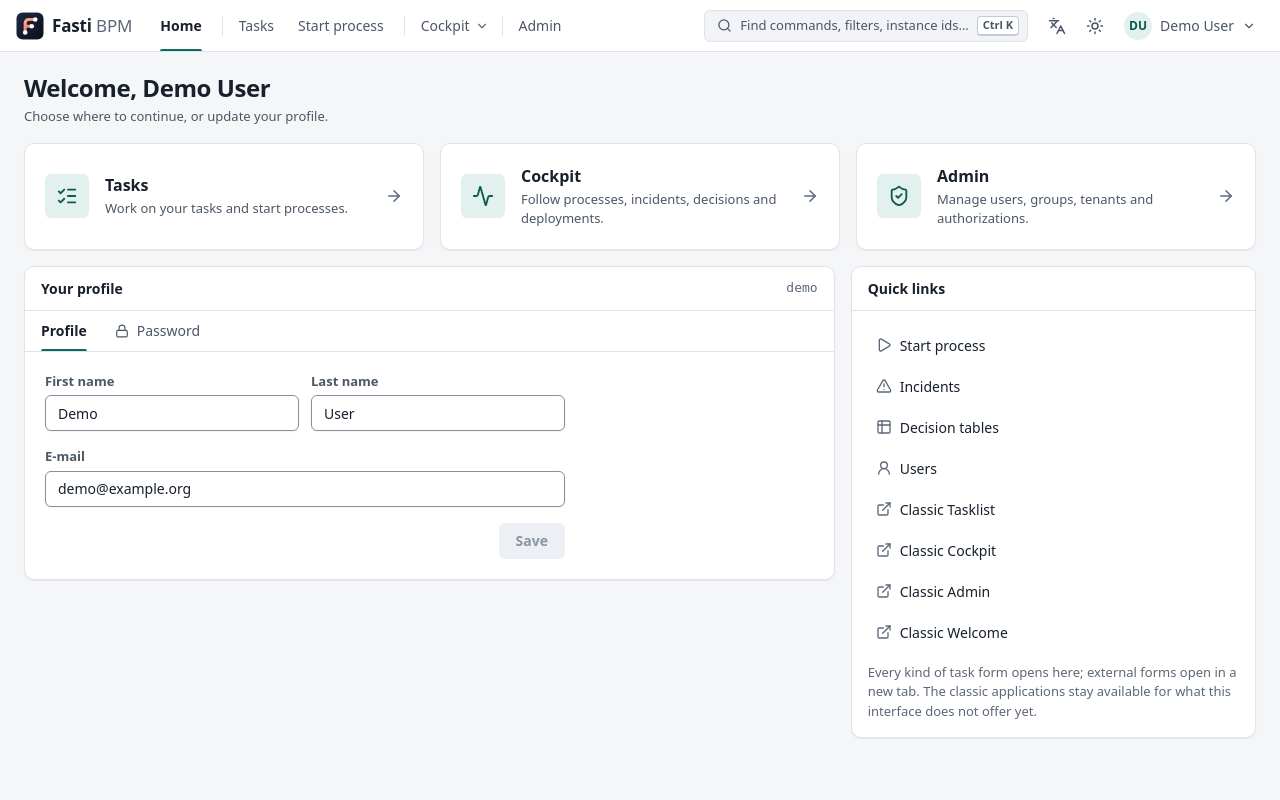
welcome page › changes the own password with the current one
This screenshot has width=1280, height=800.
Click the tab "Password" at (157, 331), box [103, 311, 212, 351]
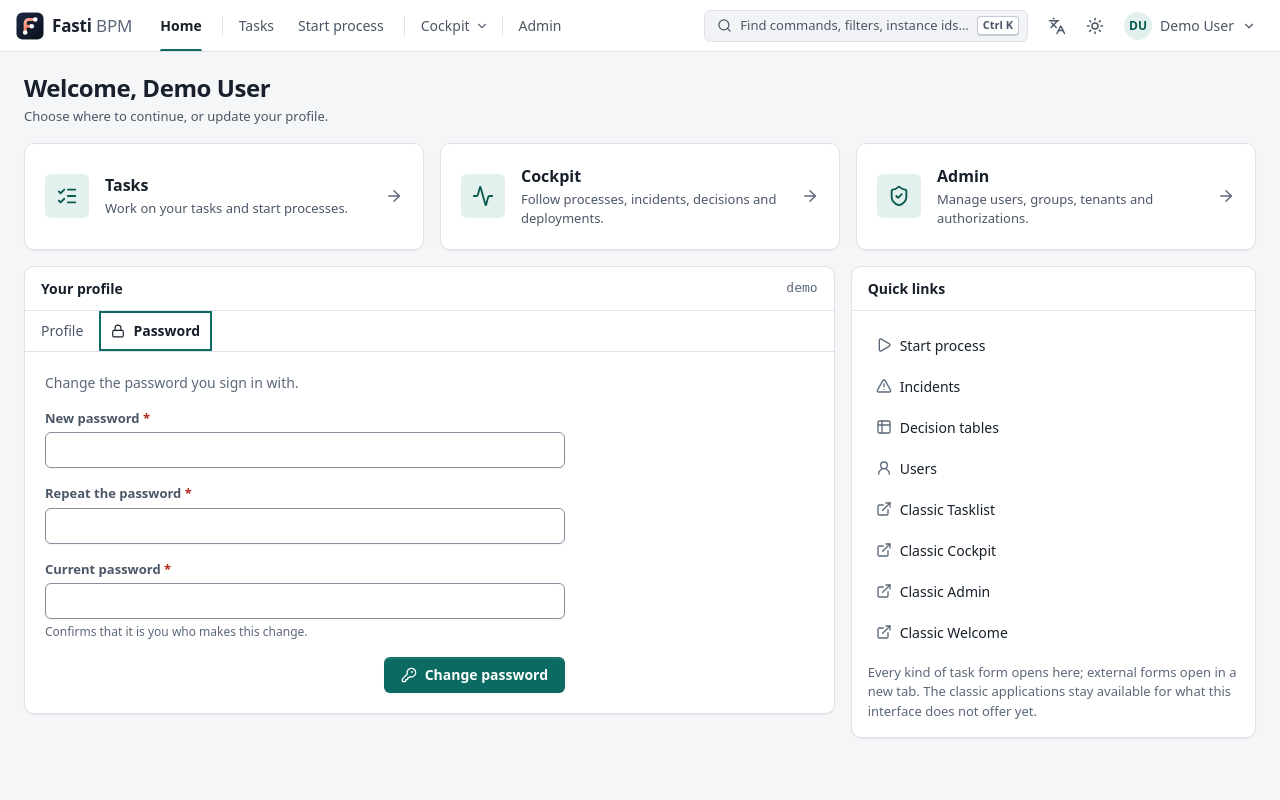
Type "n3w-Secret!" into the password field labelled "New password *" at (305, 450), box [45, 432, 565, 468]
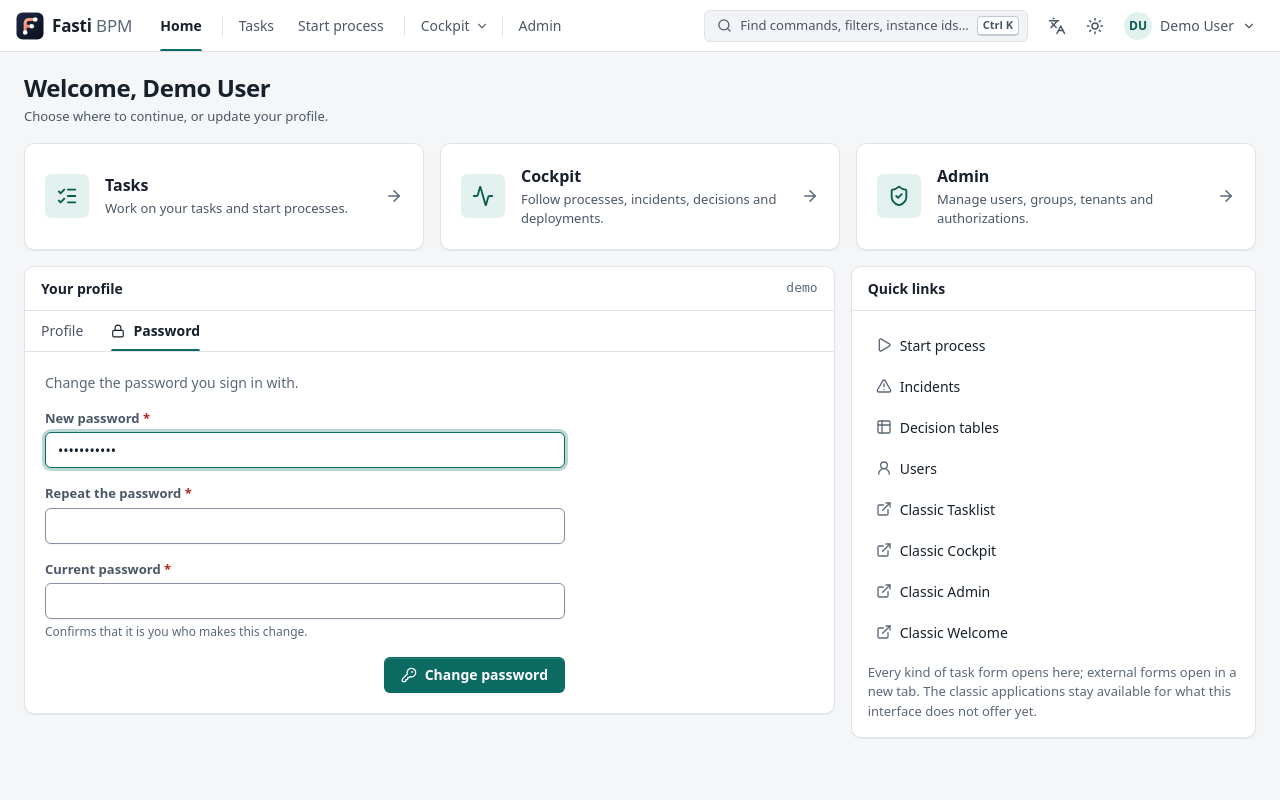
Type "n3w-Secret!" into the password field labelled "Repeat the password *" at (305, 526), box [45, 508, 565, 544]
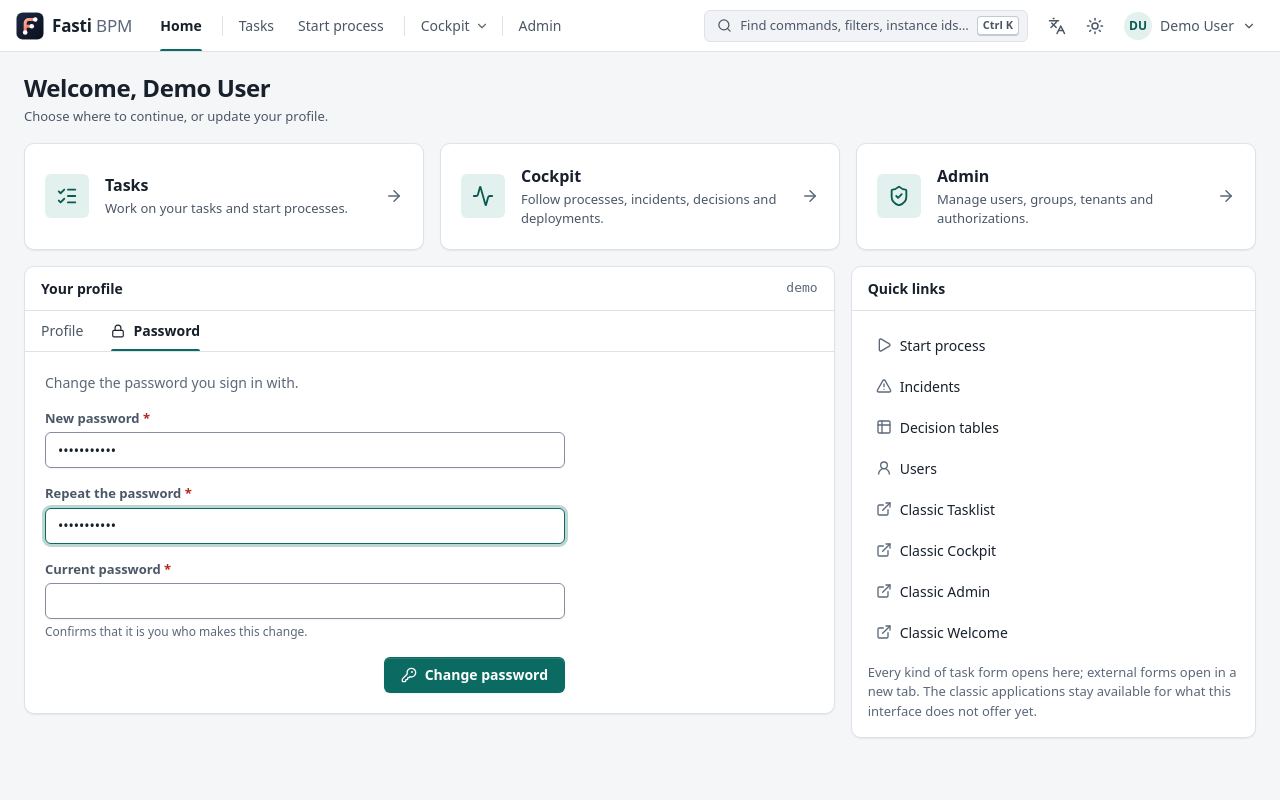
Type "old-secret" into the password field labelled "Current password *" at (305, 601), box [45, 583, 565, 619]
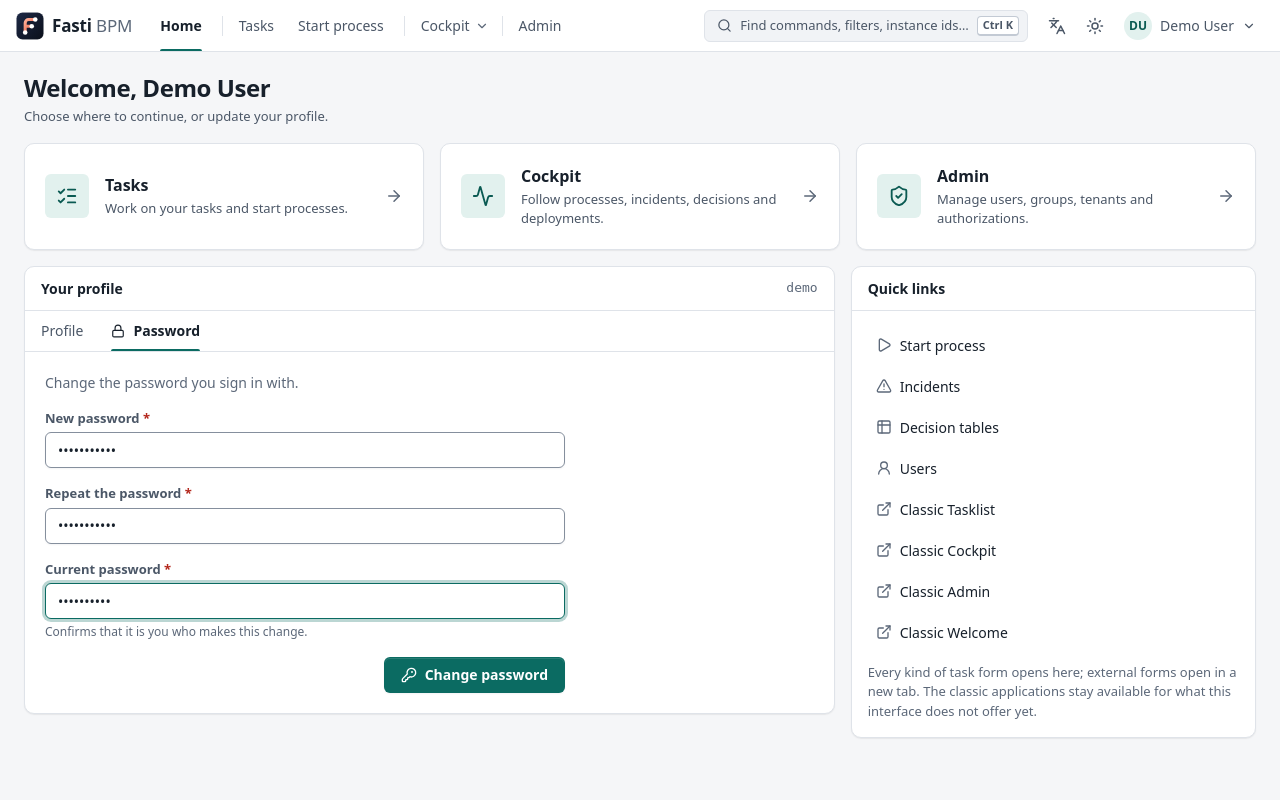
Click the button "Change password" at (474, 675), box [384, 657, 565, 693]
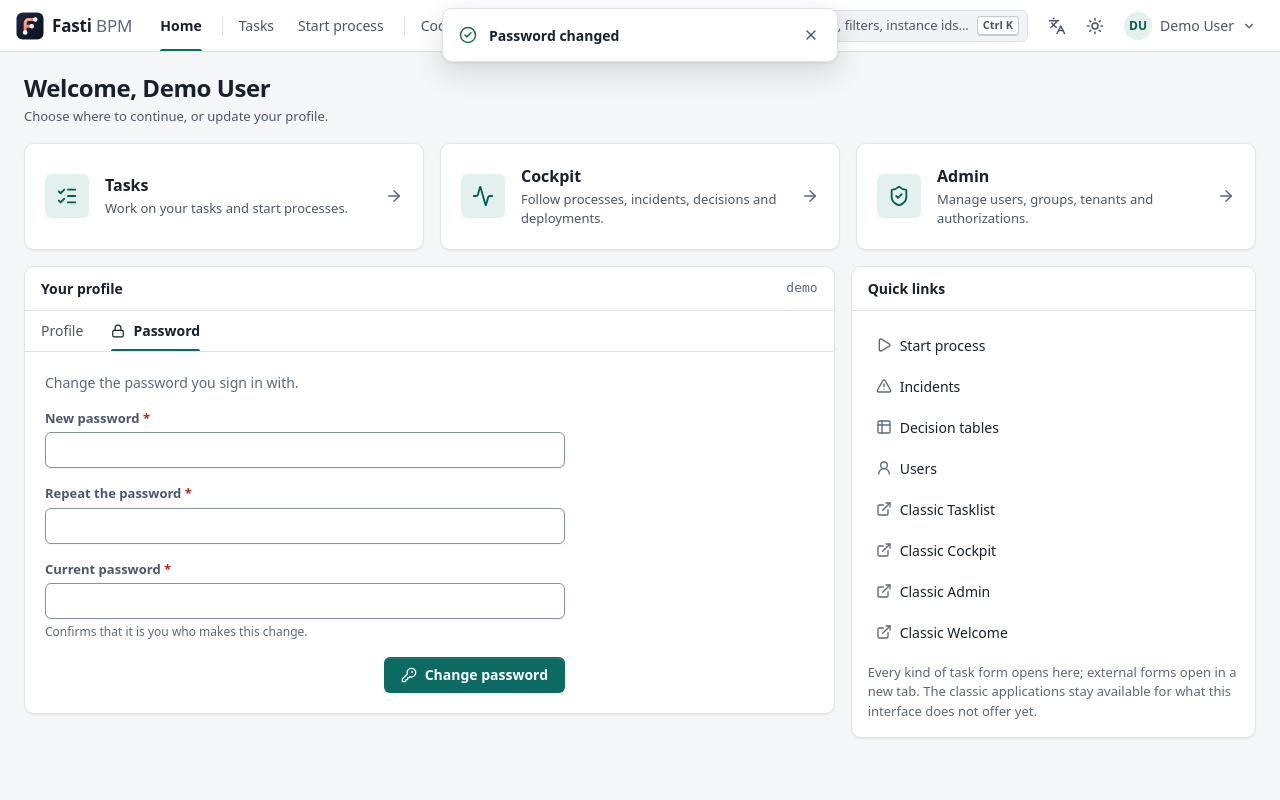
Result: the text "Password changed" is shown at [489, 26, 619, 44]
